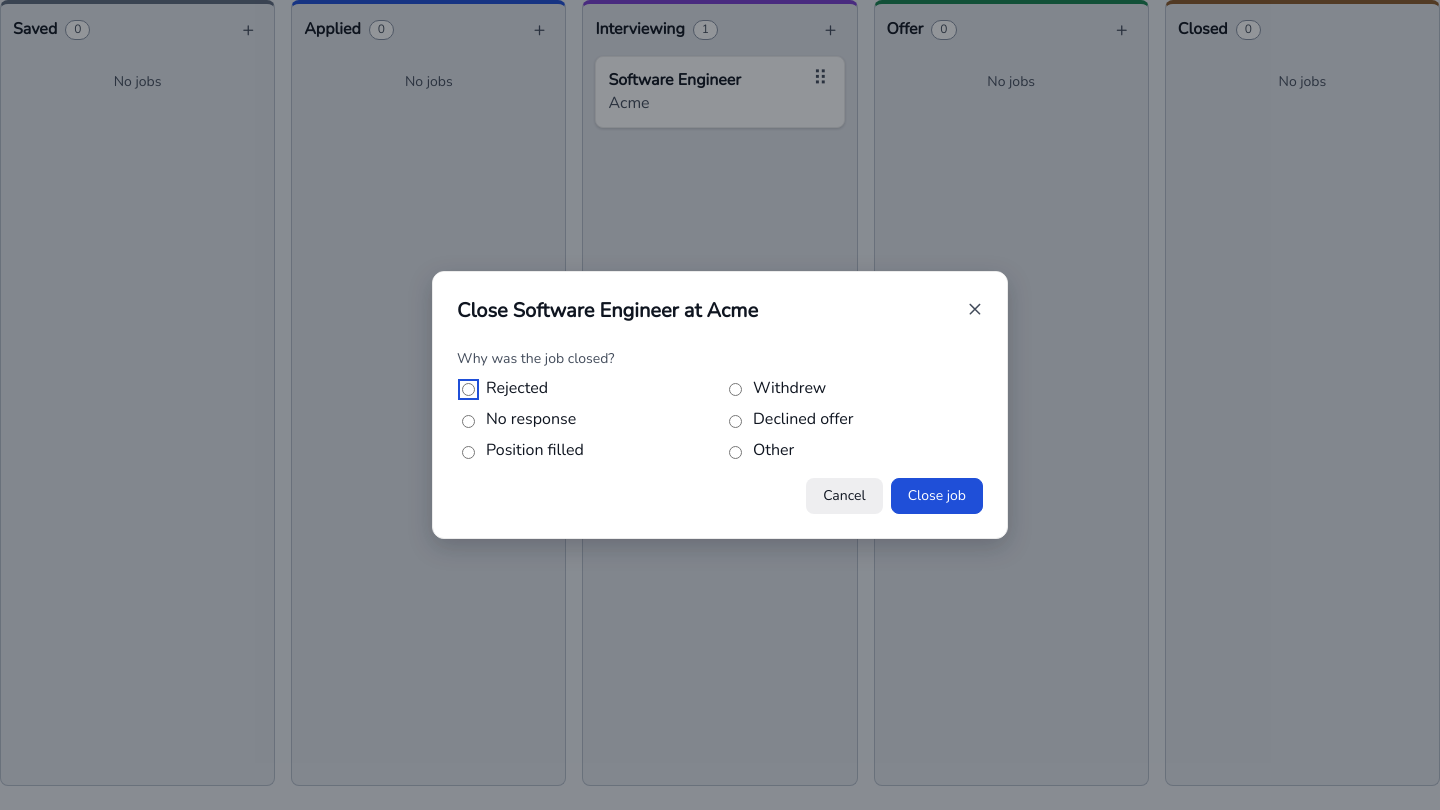
Test: Board › closing a job › asks for a reason and closes with no_response
Step 1. Click the radio button labelled "No response" → (468, 421), box [462,415,475,428]
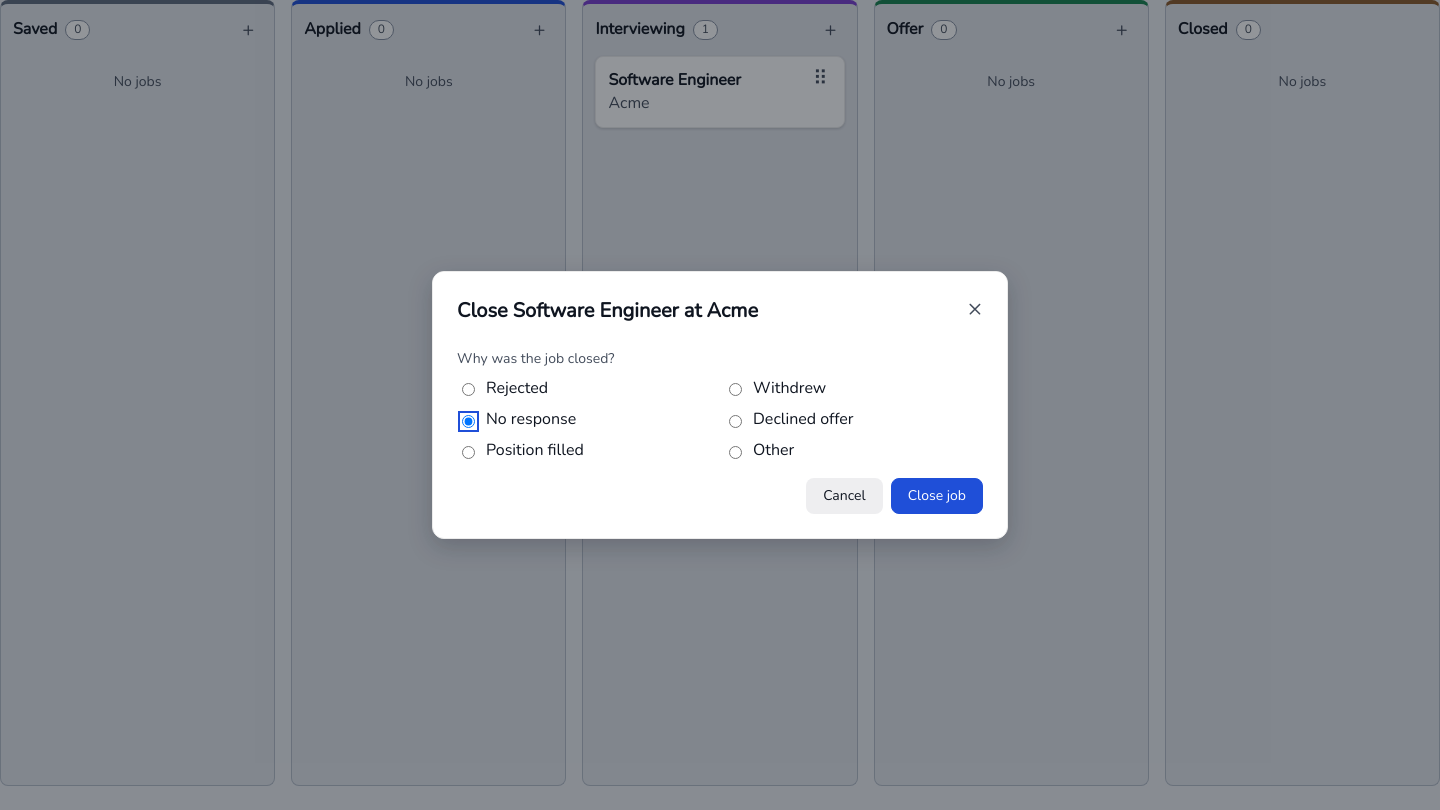
Step 2. Click the button "Close job" → (937, 496), box [891,478,983,514]
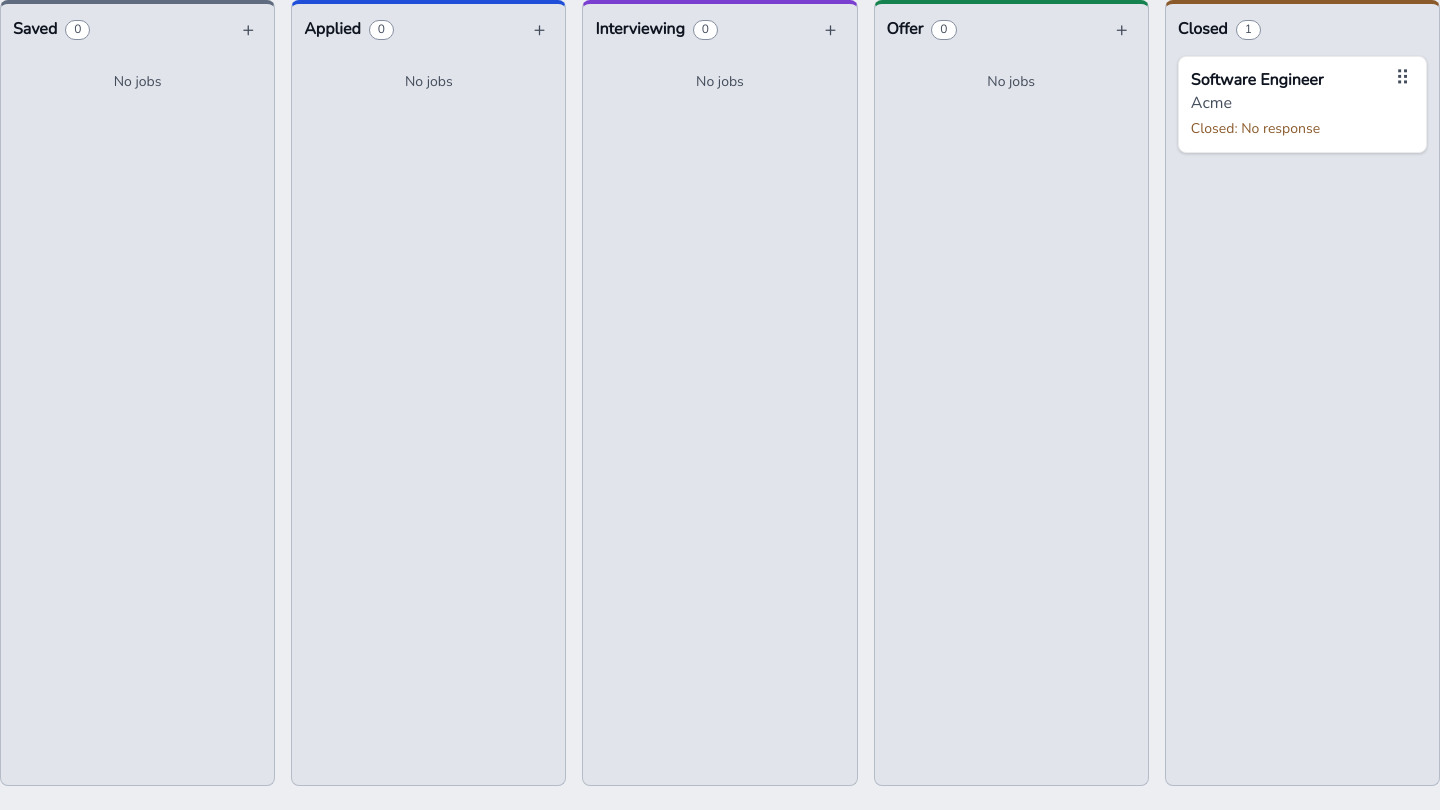
Check: the dialog is gone
